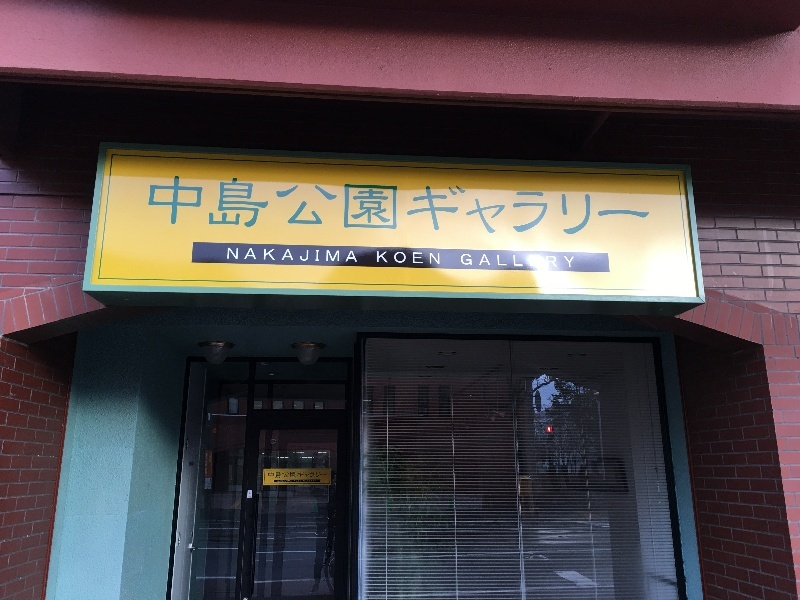text: (161, 172, 176, 239), (177, 172, 192, 239), (193, 172, 208, 239), (209, 172, 224, 239), (225, 172, 240, 239), (241, 172, 256, 239), (257, 172, 272, 239), (273, 172, 288, 239), (289, 172, 304, 239), (305, 172, 320, 239), (321, 172, 336, 239), (337, 172, 352, 239), (353, 172, 368, 239), (369, 172, 384, 239), (385, 172, 400, 239), (401, 172, 416, 239), (417, 172, 432, 239), (433, 172, 448, 239), (449, 172, 464, 239), (465, 172, 480, 239), (481, 172, 496, 239), (497, 172, 512, 239), (513, 172, 528, 239), (529, 172, 544, 239), (545, 172, 560, 239), (561, 172, 576, 239), (577, 172, 592, 239), (593, 172, 608, 239), (609, 172, 624, 239), (625, 172, 640, 239), (641, 172, 653, 239), (149, 172, 160, 239), (225, 245, 240, 265), (241, 245, 256, 265), (257, 245, 272, 265), (273, 245, 288, 265), (289, 245, 304, 265), (305, 245, 320, 265), (321, 245, 336, 265), (337, 245, 352, 265), (465, 250, 480, 270), (481, 250, 496, 270), (497, 250, 512, 270), (513, 250, 528, 270), (529, 250, 544, 270), (545, 250, 560, 270), (561, 250, 575, 270), (385, 249, 400, 267), (401, 249, 416, 267), (417, 249, 432, 267), (374, 249, 384, 267), (433, 249, 442, 267), (353, 245, 359, 265), (273, 471, 288, 479), (289, 471, 304, 479), (305, 471, 320, 479), (459, 250, 464, 270), (321, 471, 328, 479), (305, 479, 318, 483), (277, 480, 288, 483), (268, 471, 272, 479), (294, 480, 304, 483), (249, 491, 256, 495), (289, 480, 293, 483), (303, 479, 304, 483)
